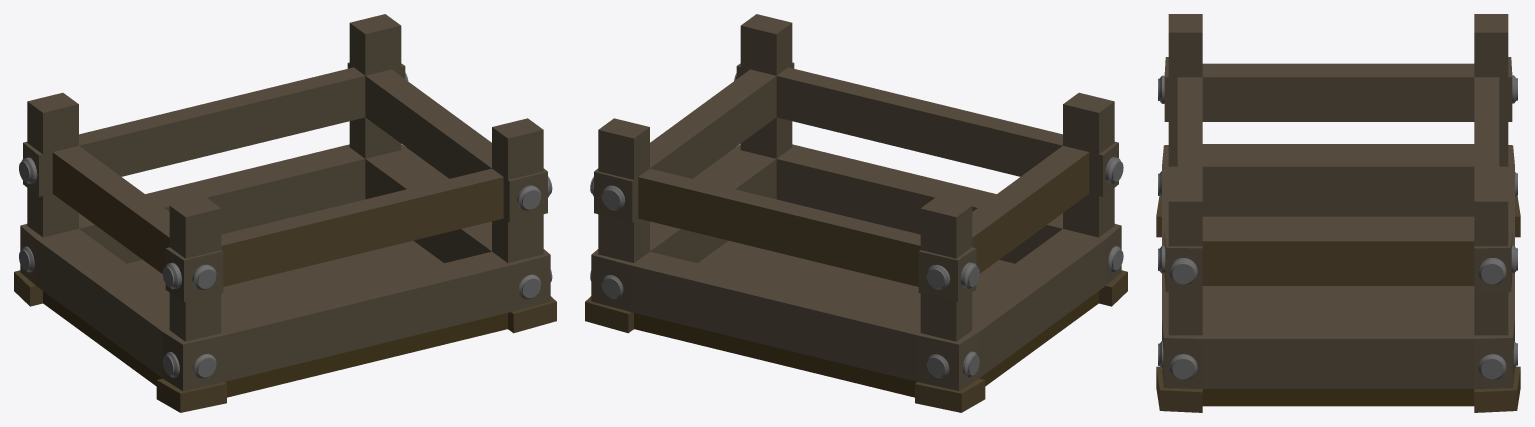
The model's file is crate.fbx.
The picture shows the model from 3 angles, left to right: view 1: azimuth 30°, elevation 25°; view 2: azimuth 150°, elevation 25°; view 3: azimuth 270°, elevation 25°; orthographic projection. The views are drawn at different scales.
Parts seen in each view (by area): view 1: CRATE_EMPTY; view 2: CRATE_EMPTY; view 3: CRATE_EMPTY.
Part boxes in pixels (x1=…): CRATE_EMPTY: x1=14, y1=14, x2=556, y2=412; CRATE_EMPTY: x1=585, y1=14, x2=1127, y2=412; CRATE_EMPTY: x1=1156, y1=14, x2=1520, y2=412.
Bounding box in the file's own units: 326 × 155 × 250.
